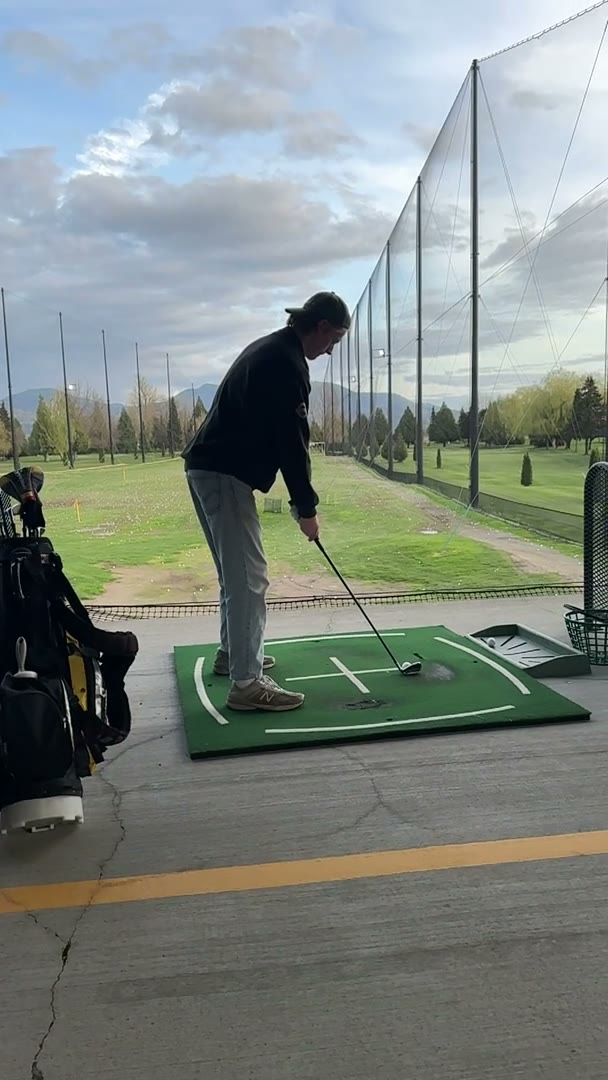Golf Ball: (399, 660, 417, 673)
